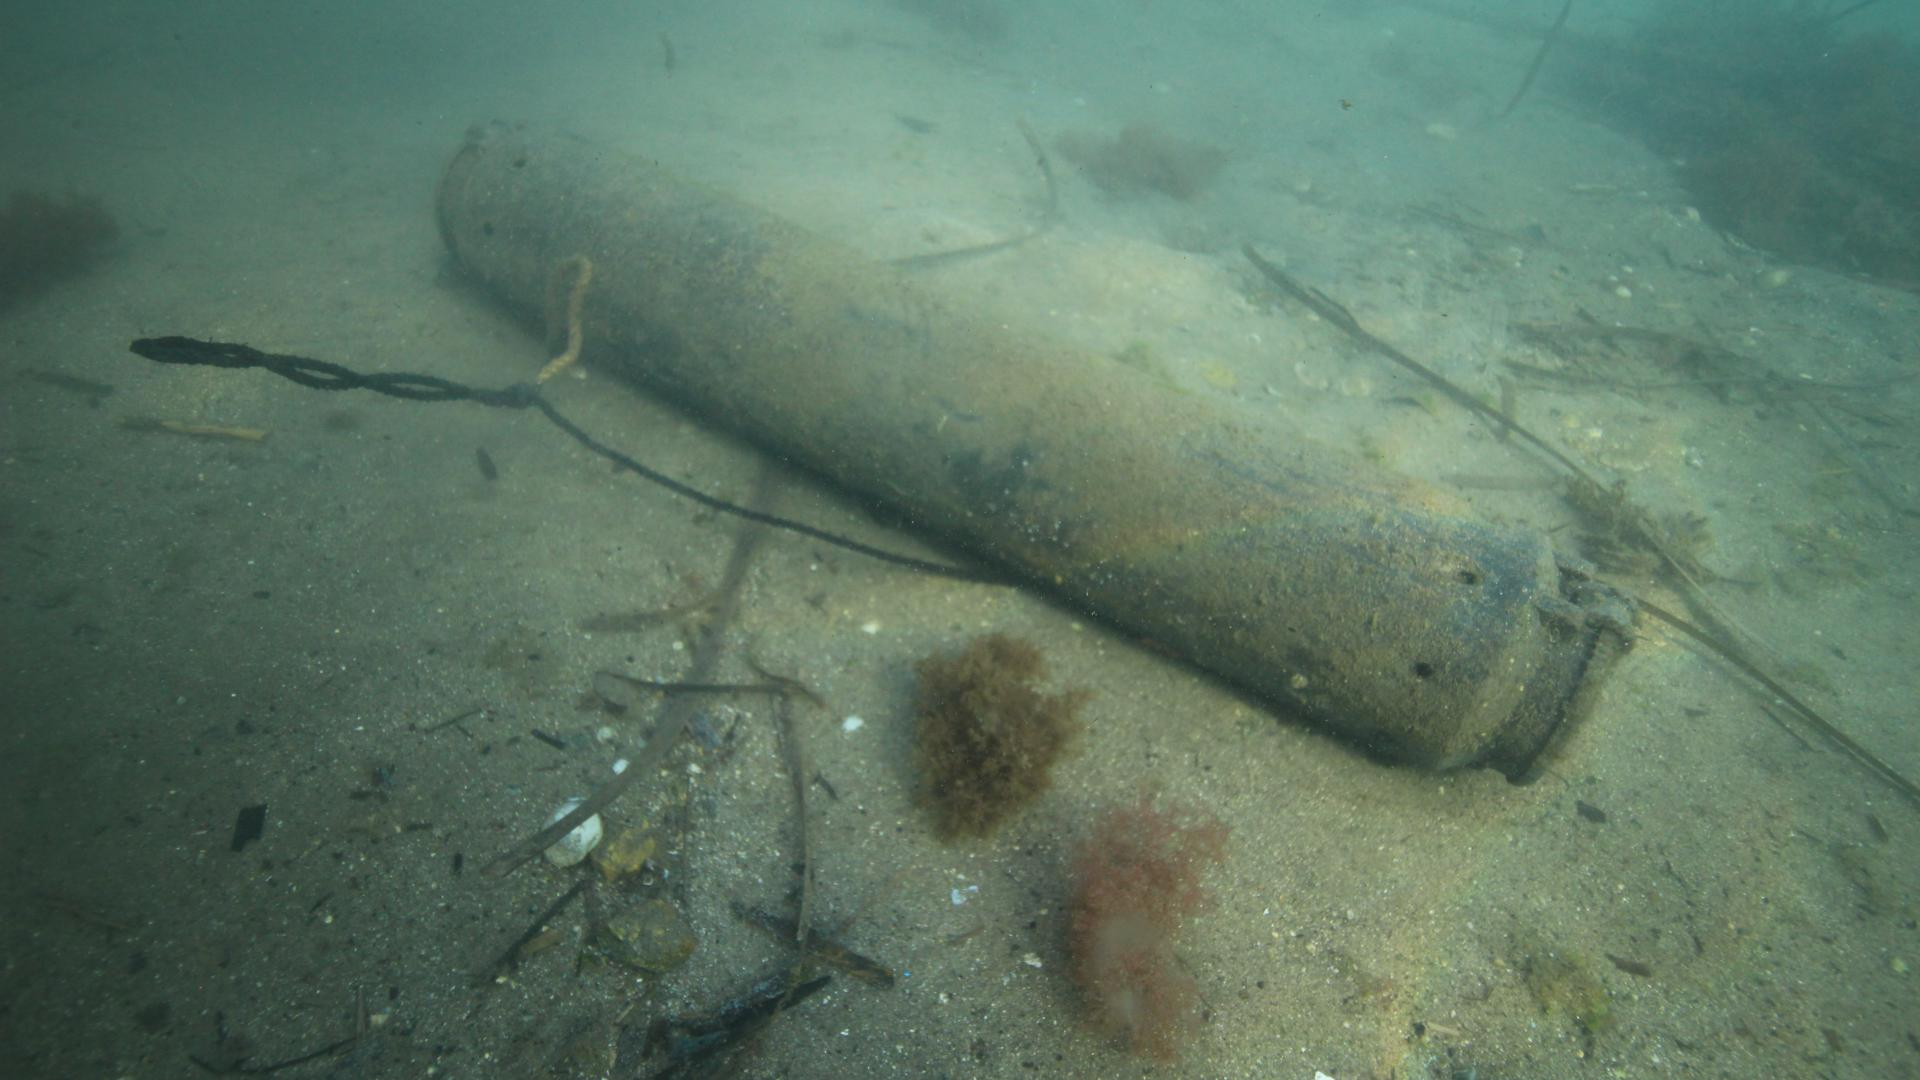eel fish trap: (426, 117, 1635, 789)
rope: (124, 245, 1011, 587)
